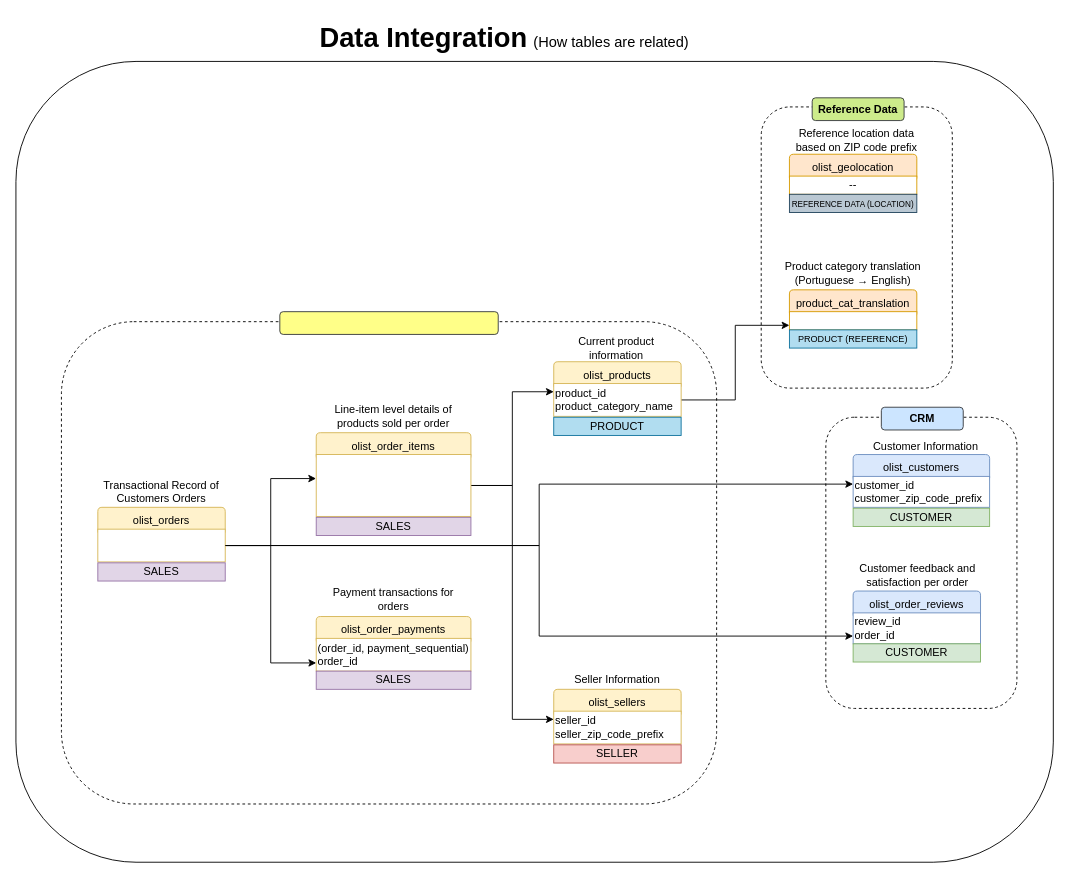
Some shapes in this 1069 by 878 pixel diagram are drawn without their labels. Each missing label, with the centre of its shape:
"( order_id , order_items_id) order_id product_id seller_id" goes at pixel 393 485.
"ERP" goes at pixel 388 322.
"order_id customer_id" goes at pixel 161 545.
"product_category_name" goes at pixel 853 320.
